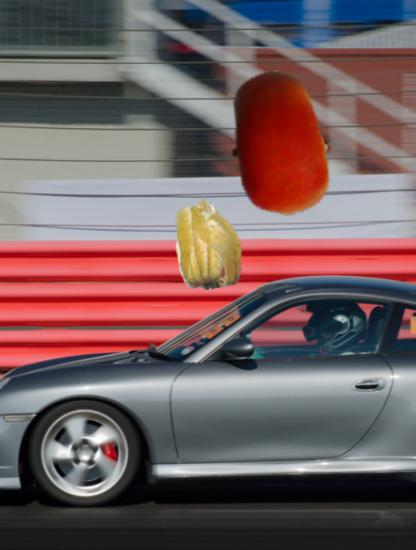Nectarine: (208, 70, 354, 216)
Physalis: (161, 196, 255, 290)
